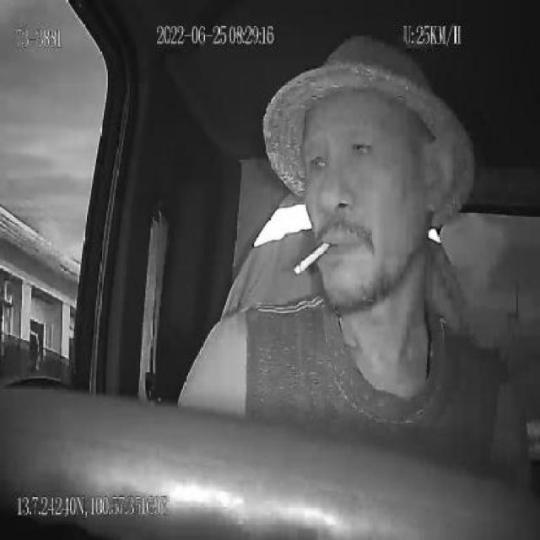smoking: (294, 237, 332, 280)
